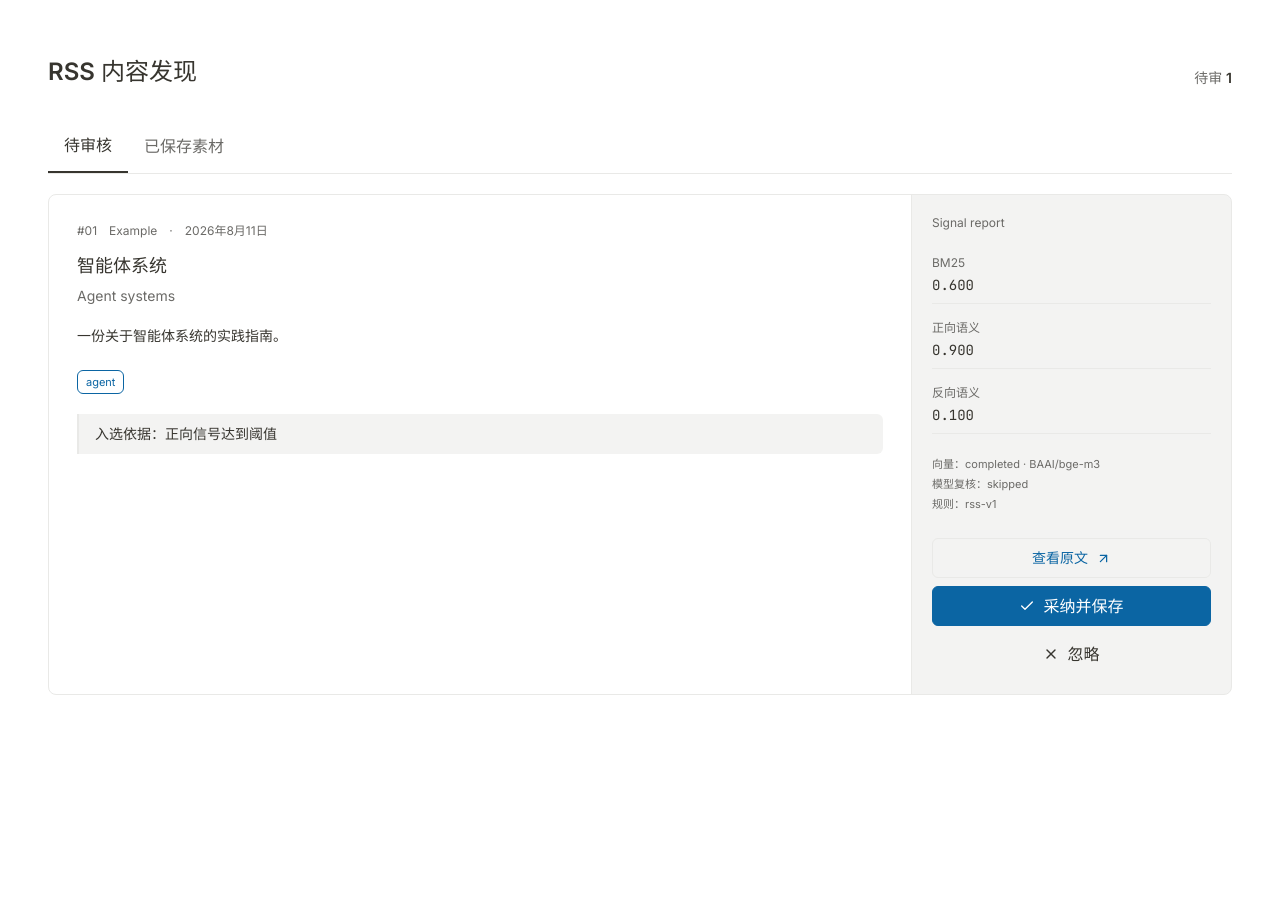
Test: RssCandidatesPage › allows retry after a failed confirm action
This screenshot has width=1280, height=900.
Click the button with aria-label "采纳并保存 智能体系统" at [1072, 606], box [932,586,1211,626]
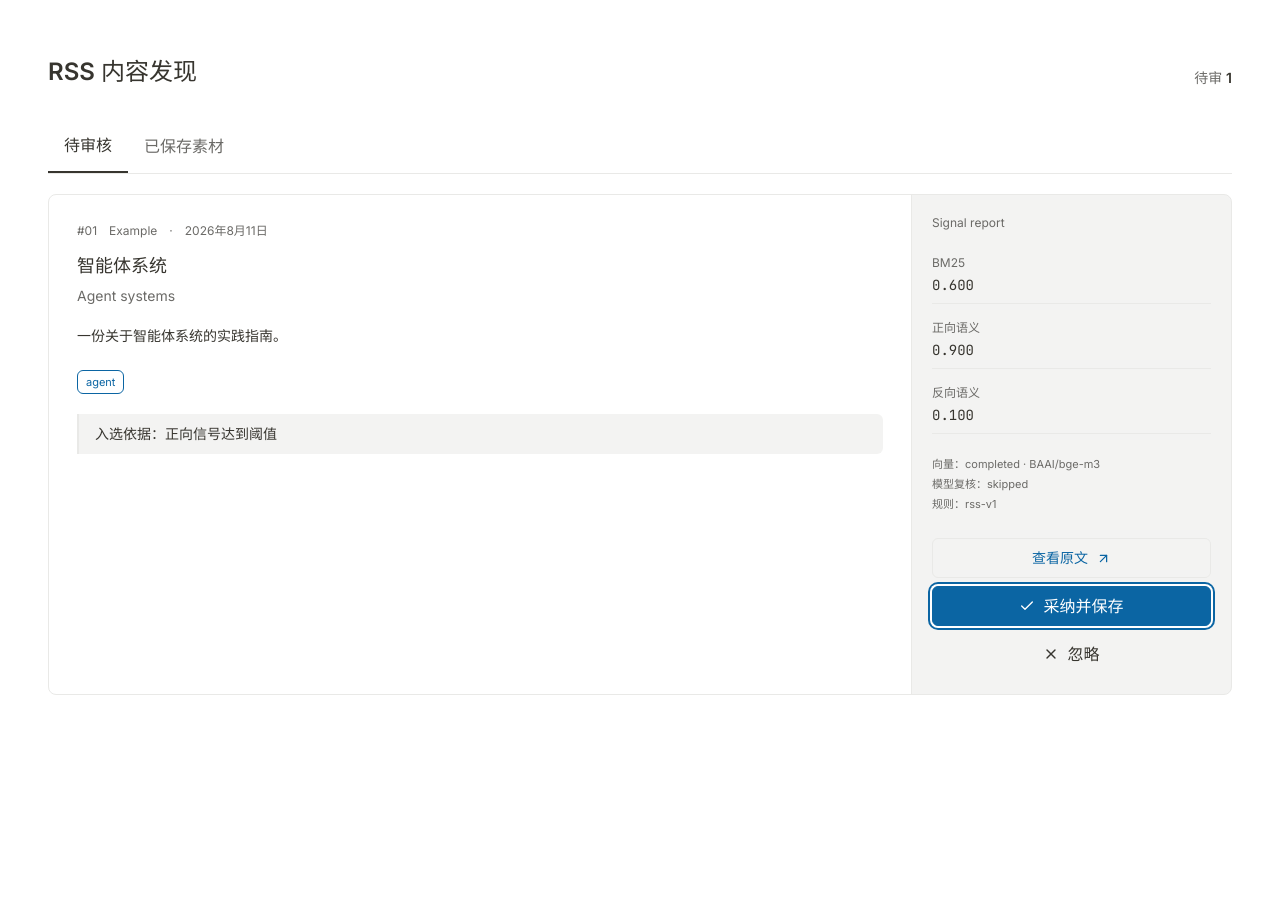
Click the button with aria-label "采纳并保存 智能体系统" at [1072, 606], box [932,586,1211,626]
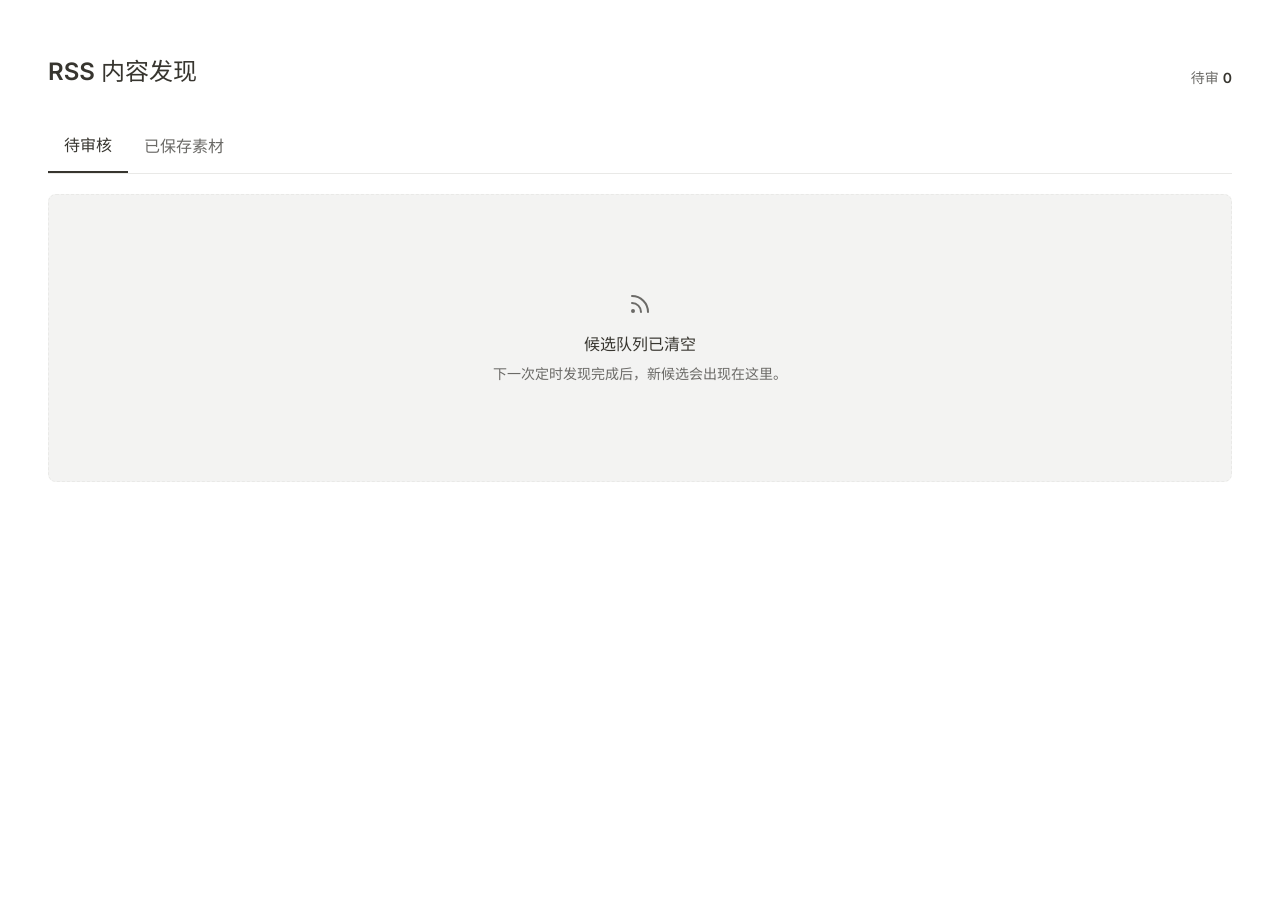
Expected: the heading "候选队列已清空" is shown, [584,334,696,354]
